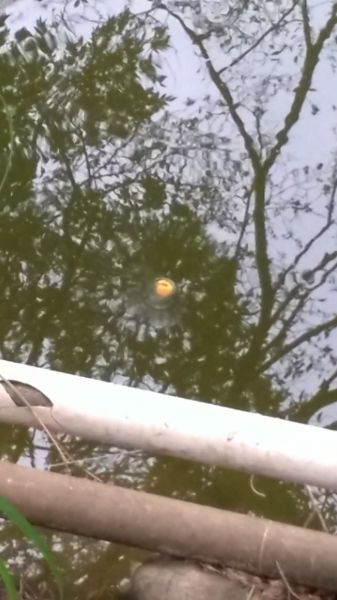eggs: (147, 273, 180, 303)
